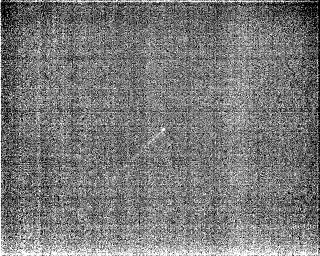AIRPLANE: (96, 129, 168, 173)
